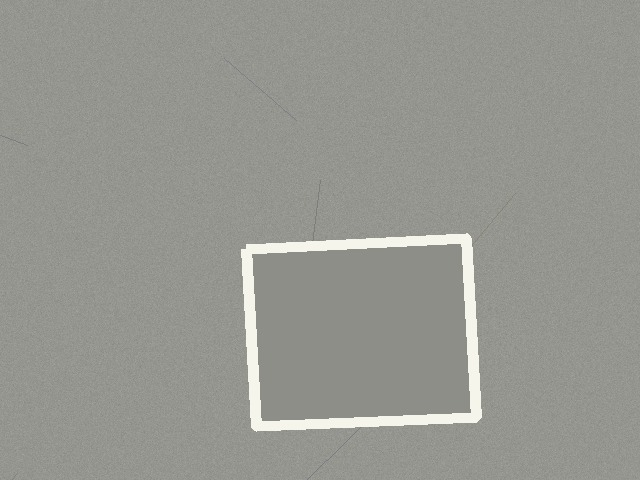parking_area: (246, 238, 476, 426)
